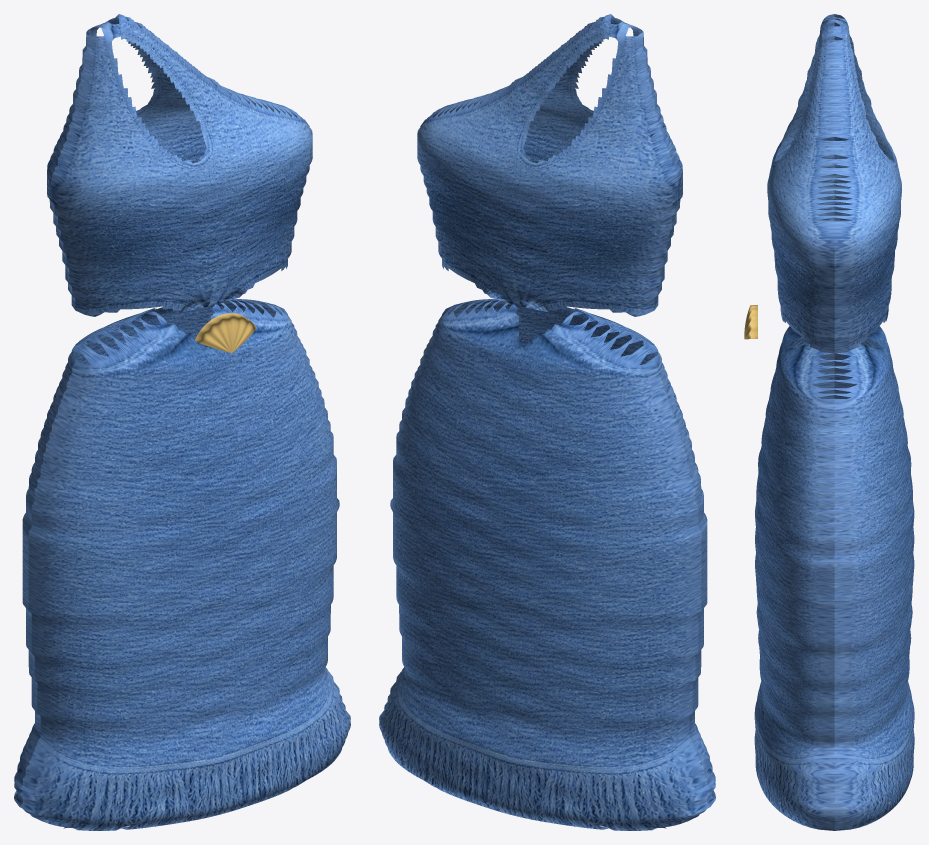
Rendered from vestido-aurora-aproximado.glb.
3 renders of one model, left to right at view 1: azimuth 30°, elevation 25°; view 2: azimuth 150°, elevation 25°; view 3: azimuth 270°, elevation 25°, orthographic. The views are drawn at different scales.
Visible parts, largest first — view 1: Vestido Aurora — geometria aproximada; view 2: Vestido Aurora — geometria aproximada; view 3: Vestido Aurora — geometria aproximada.
Boxes of the visible parts, x1=… form: Vestido Aurora — geometria aproximada: x1=14, y1=14, x2=350, y2=830; Vestido Aurora — geometria aproximada: x1=379, y1=14, x2=715, y2=830; Vestido Aurora — geometria aproximada: x1=744, y1=14, x2=914, y2=830.
Size of the model in its own units: 0.5027 by 1.18 by 0.2471.
2 materials, 1 textured.
